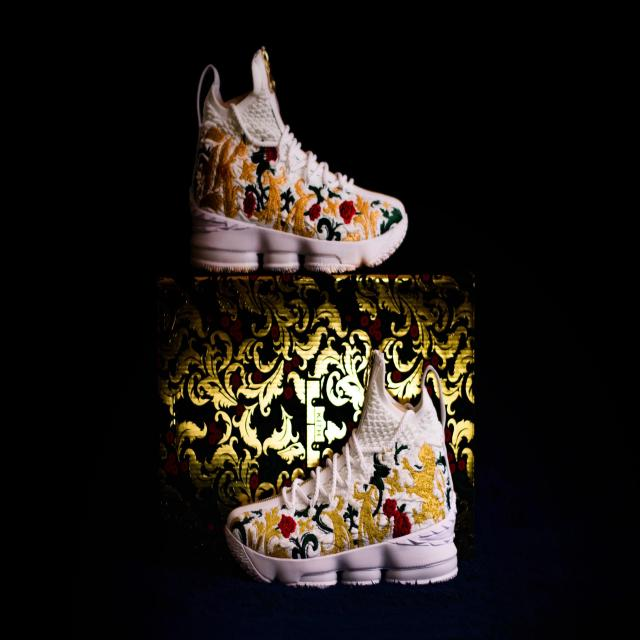shoes: (219, 344, 469, 596), (184, 44, 413, 278)
